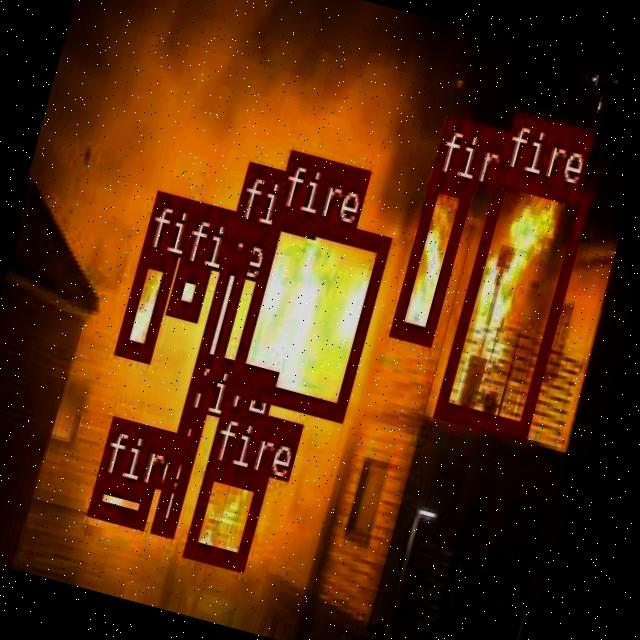fire: (433, 165, 589, 436), (226, 204, 390, 418), (388, 170, 472, 342), (188, 216, 258, 391), (182, 458, 266, 566), (114, 244, 176, 358), (150, 406, 203, 532), (86, 472, 152, 526), (166, 258, 208, 316)
